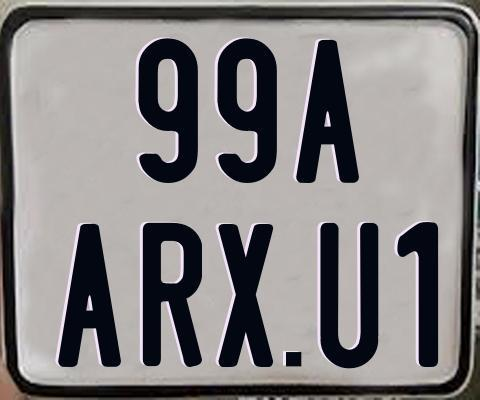1: (394, 220, 436, 369)
9: (215, 36, 276, 186), (138, 37, 198, 183)
A: (293, 37, 360, 180), (56, 221, 119, 365)
R: (142, 221, 203, 365)
U: (317, 222, 378, 374)
X: (215, 222, 273, 368)
